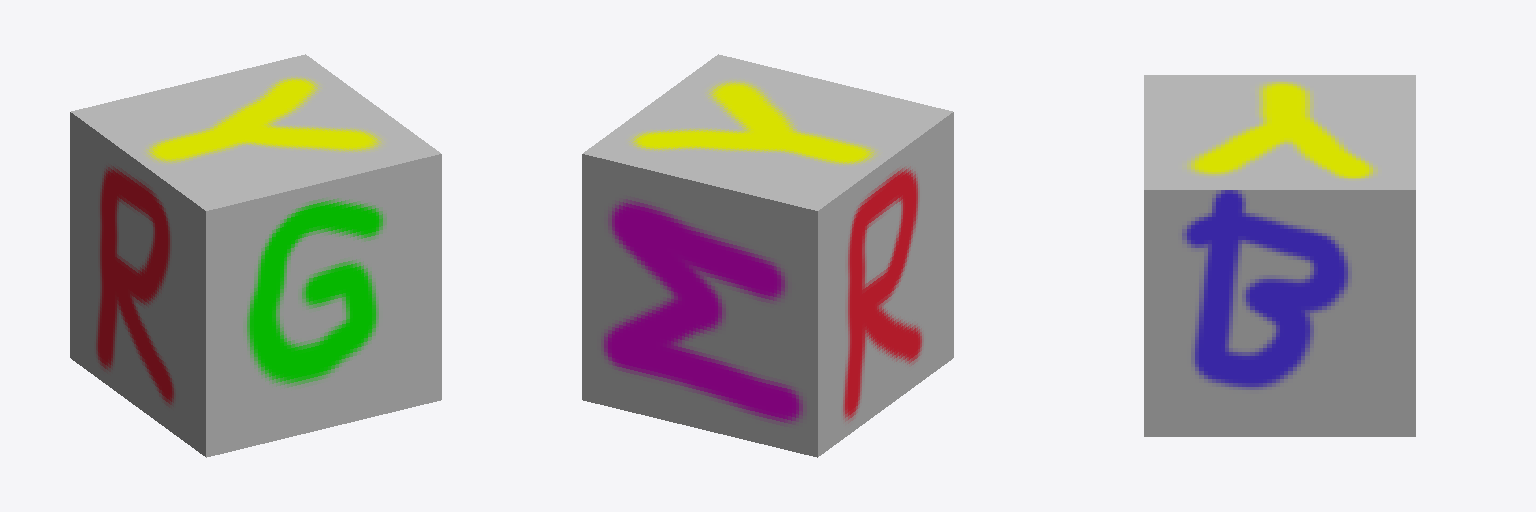
3 renders of one model, left to right at view 1: azimuth 30°, elevation 25°; view 2: azimuth 150°, elevation 25°; view 3: azimuth 270°, elevation 25°, orthographic.
Visible parts, largest first — view 1: Cube; view 2: Cube; view 3: Cube.
Boxes of the visible parts, x1,y1,x2,y2 form: Cube: [70, 54, 441, 457]; Cube: [582, 54, 953, 457]; Cube: [1144, 75, 1415, 436].
Bounding box in the file's own units: 2 × 2 × 2.
Materials: 1 (1 with a texture image).